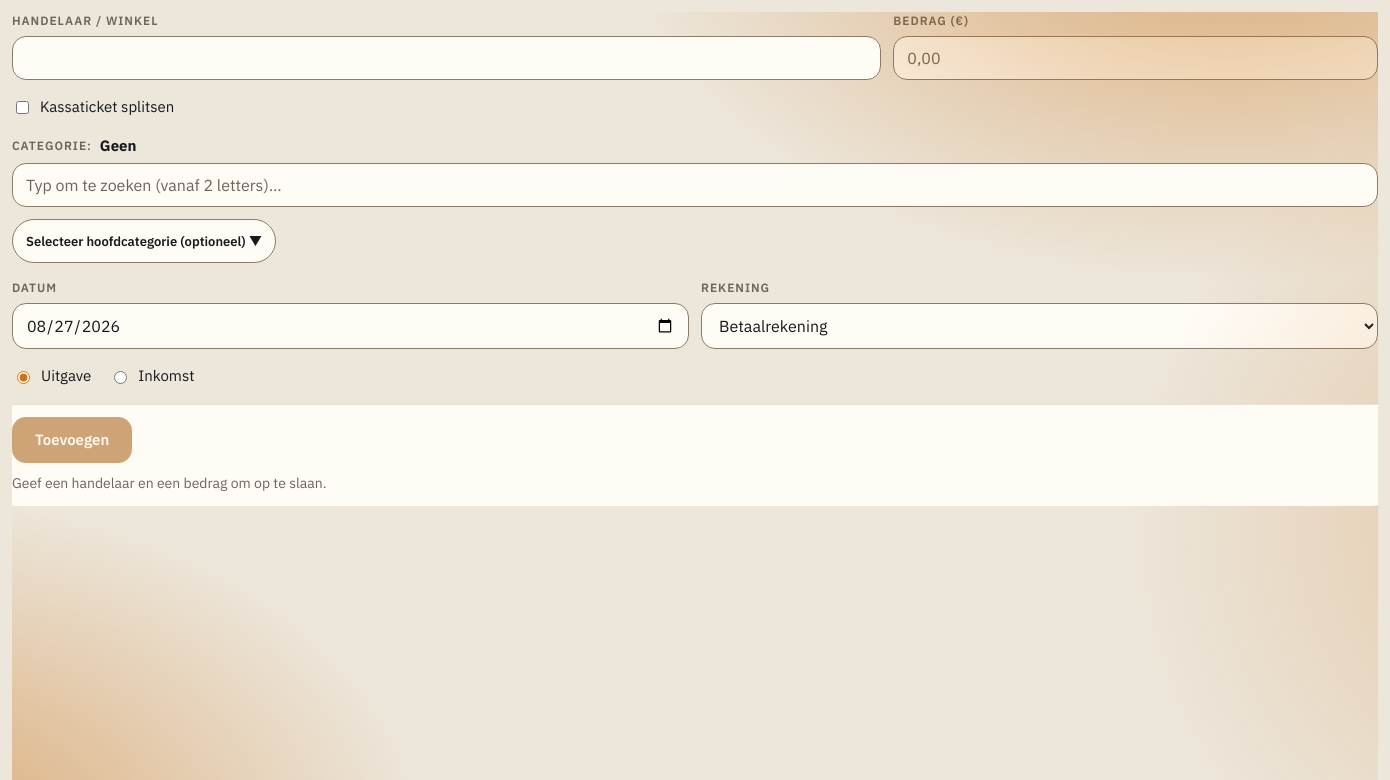
Test: TransactieFormulier › haalt de chiprij weg zolang het toevoegpaneeltje openstaat
Type "Colruyt" into the dropdown labelled "Handelaar / winkel" at (447, 58), box [12, 36, 881, 80]
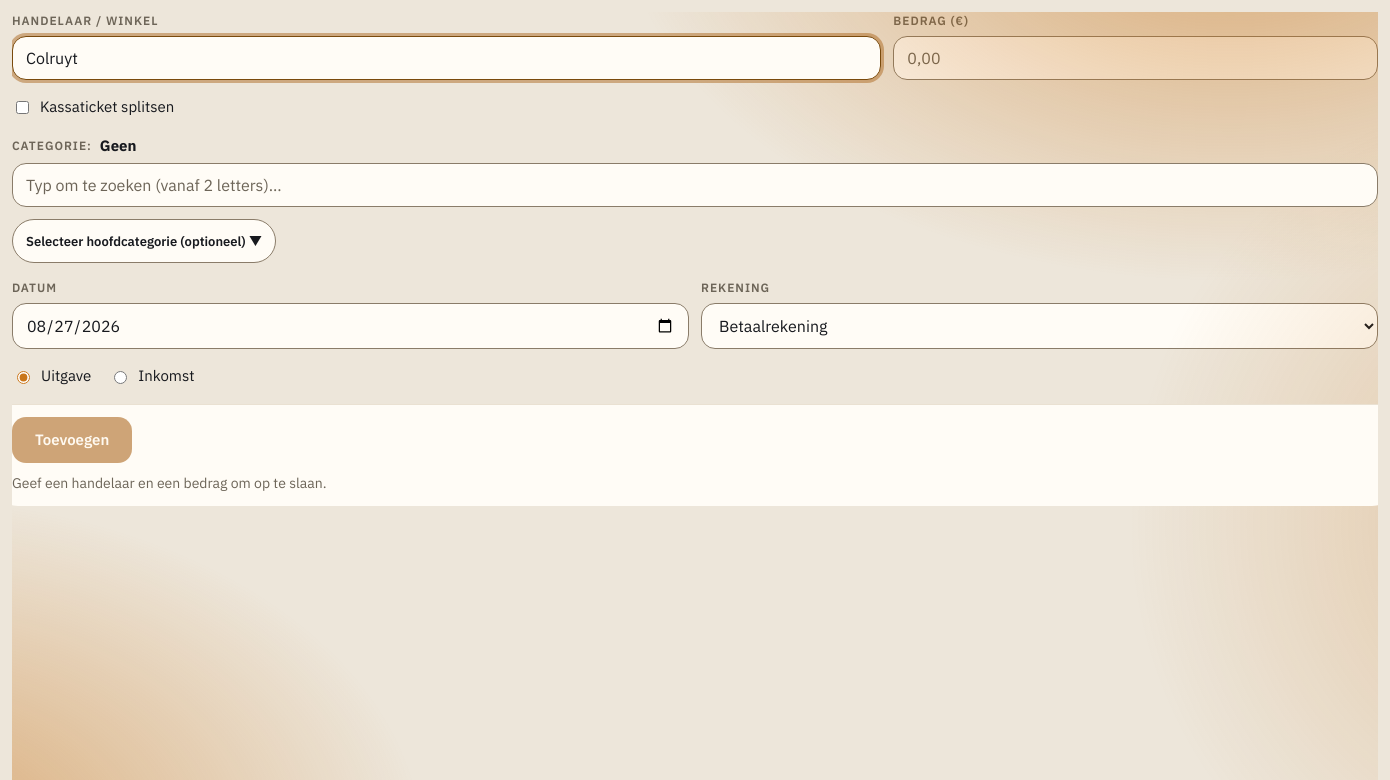
Type "3" into the field labelled "Bedrag (€)" at (1136, 58), box [893, 36, 1378, 80]
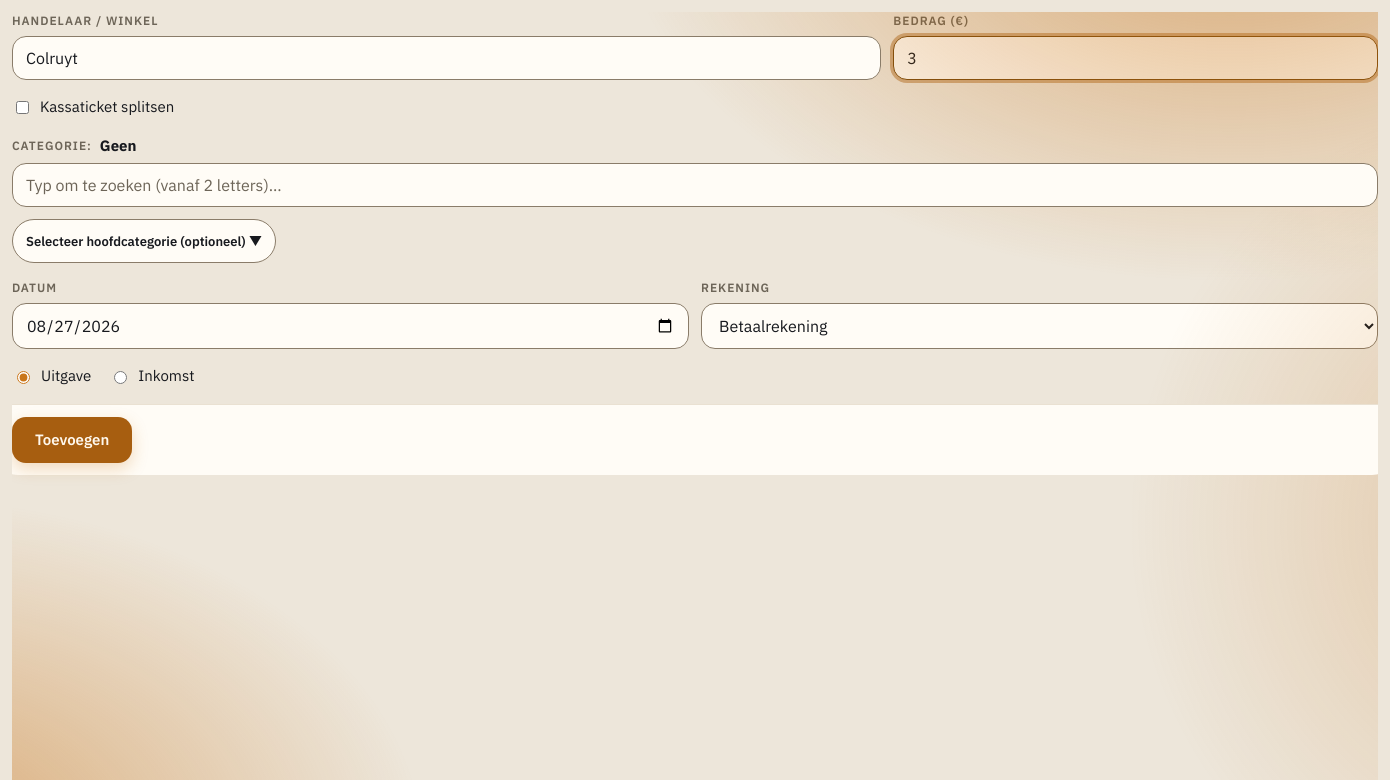
Click the checkbox labelled "Kassaticket splitsen" at (22, 107), box [16, 101, 29, 114]
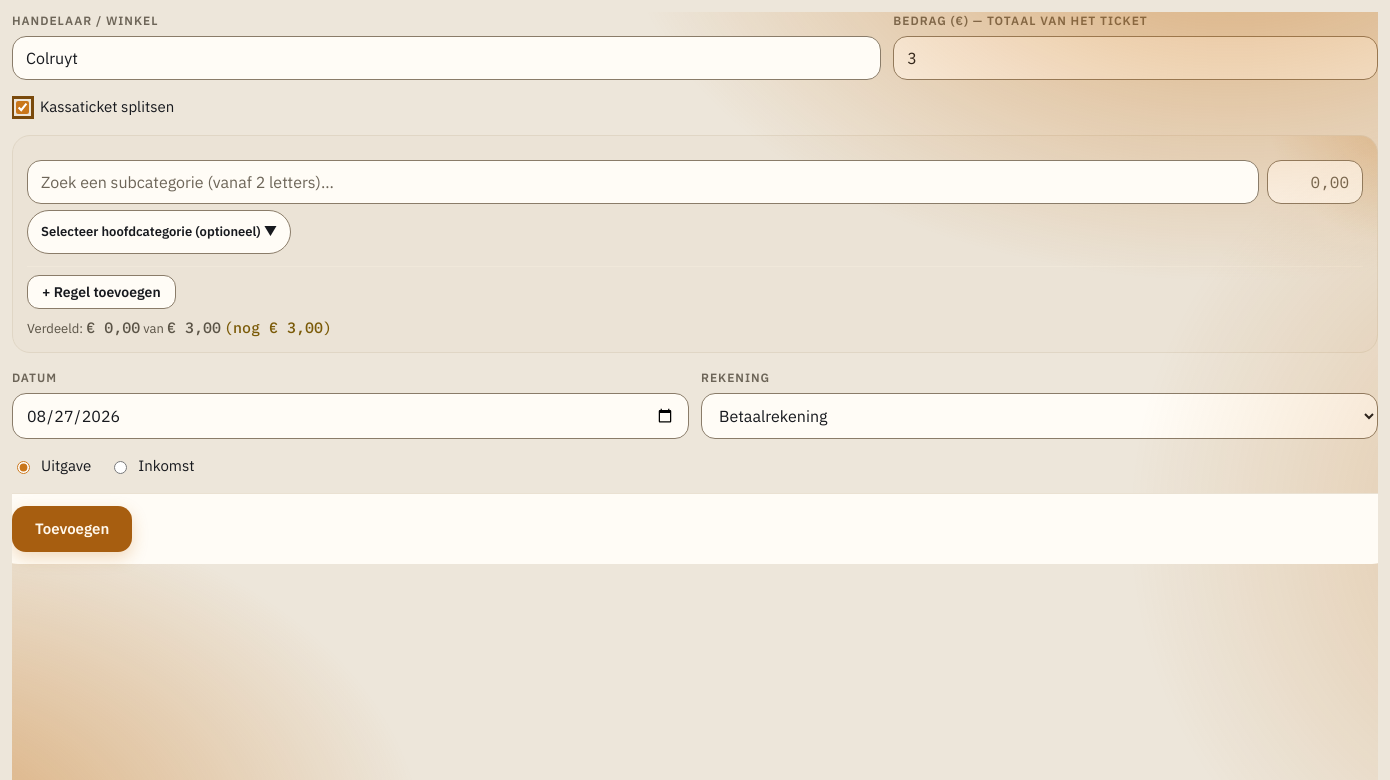
Expected: the button "Selecteer hoofdcategorie (optioneel) ▼" is shown, [27, 210, 291, 254]
Type "Kefir" into the dropdown named "Subcategorie zoeken" at (643, 182), box [27, 160, 1259, 204]
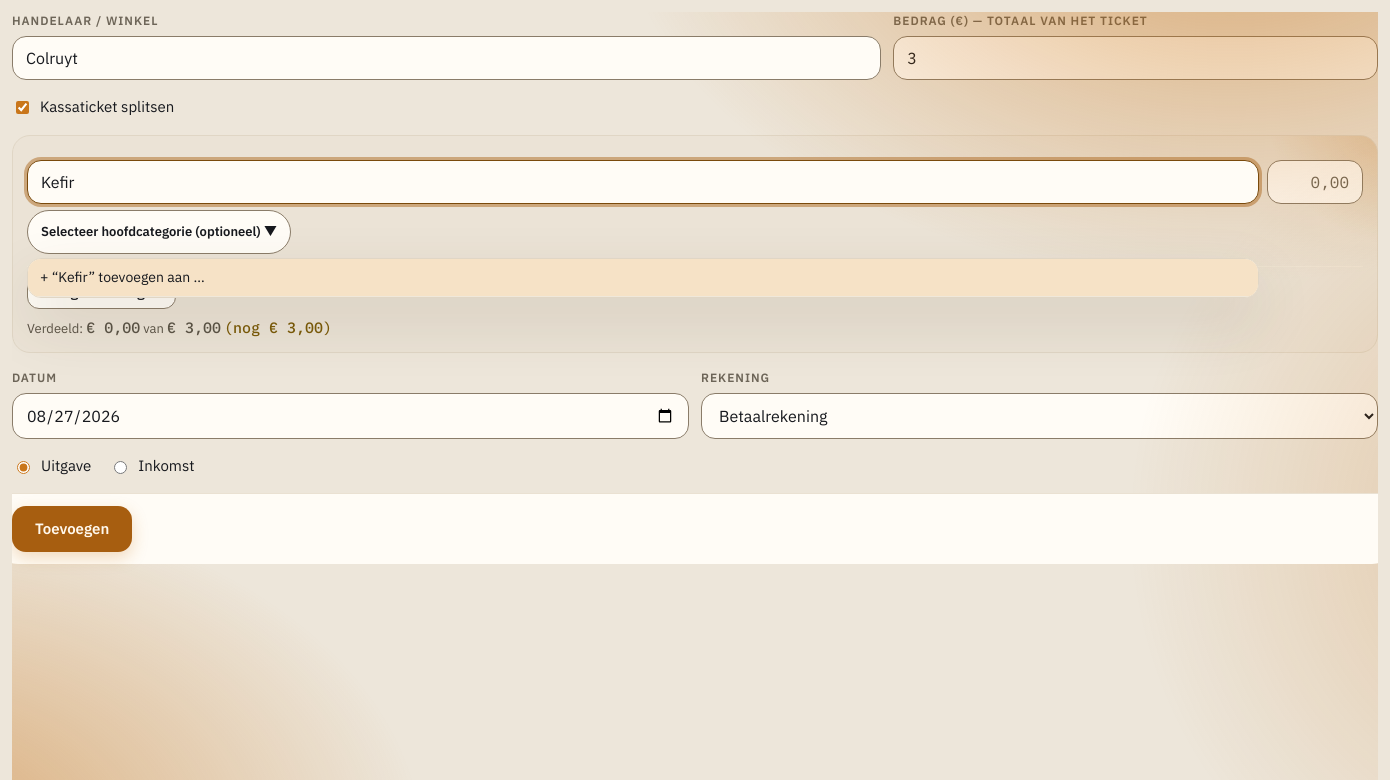
Click the option "+ “Kefir” toevoegen aan …" at (122, 276), box [28, 258, 1258, 296]
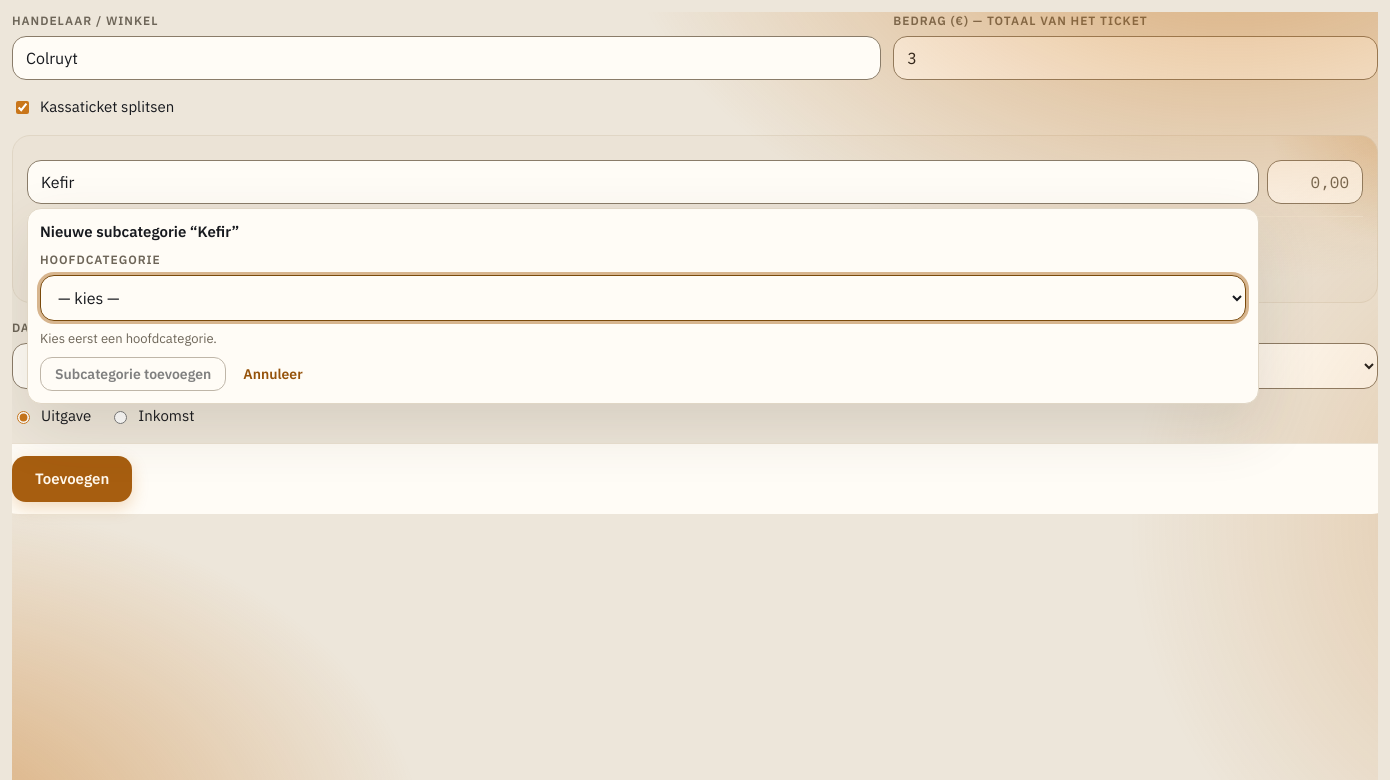
Expected: the button "Selecteer hoofdcategorie" is gone
